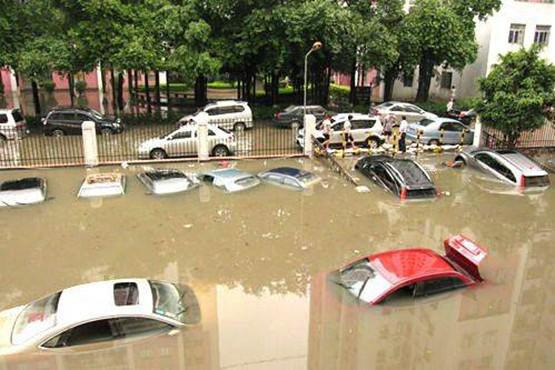water: (0, 277, 554, 369), (0, 183, 390, 308), (332, 155, 554, 277), (88, 156, 352, 194), (0, 167, 87, 197)
